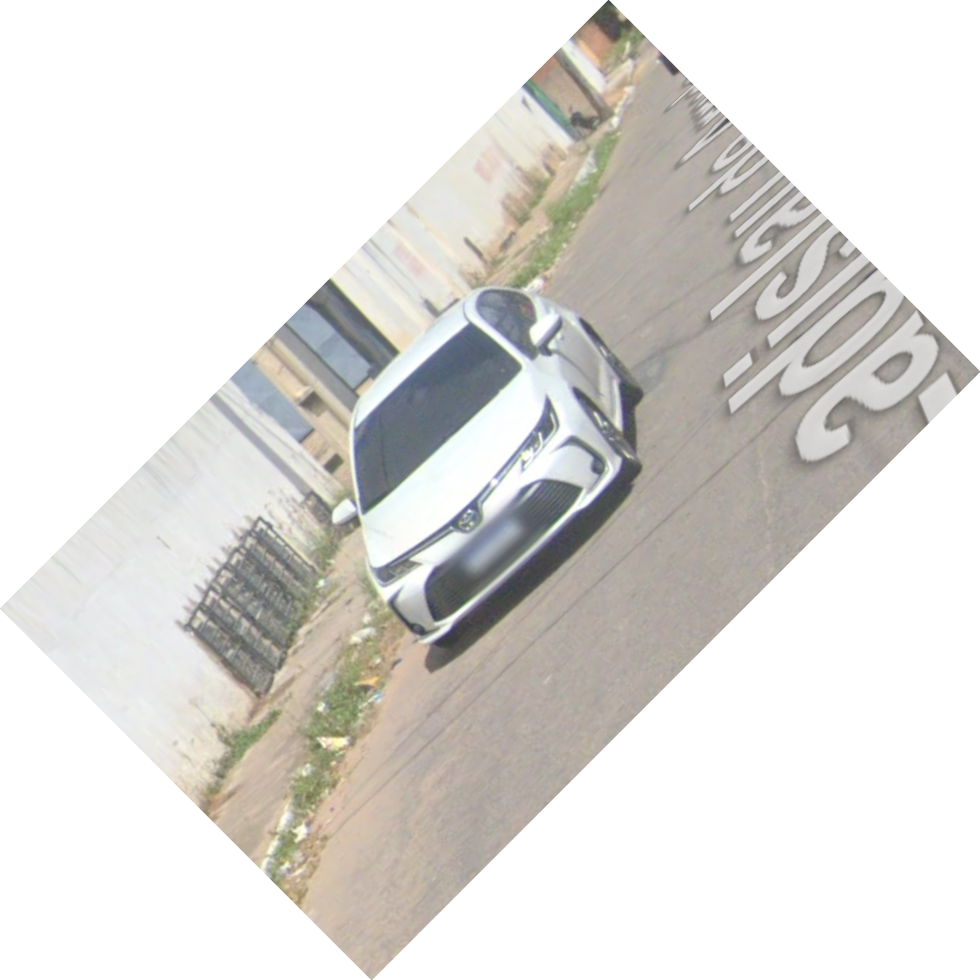car: (327, 278, 649, 663)
